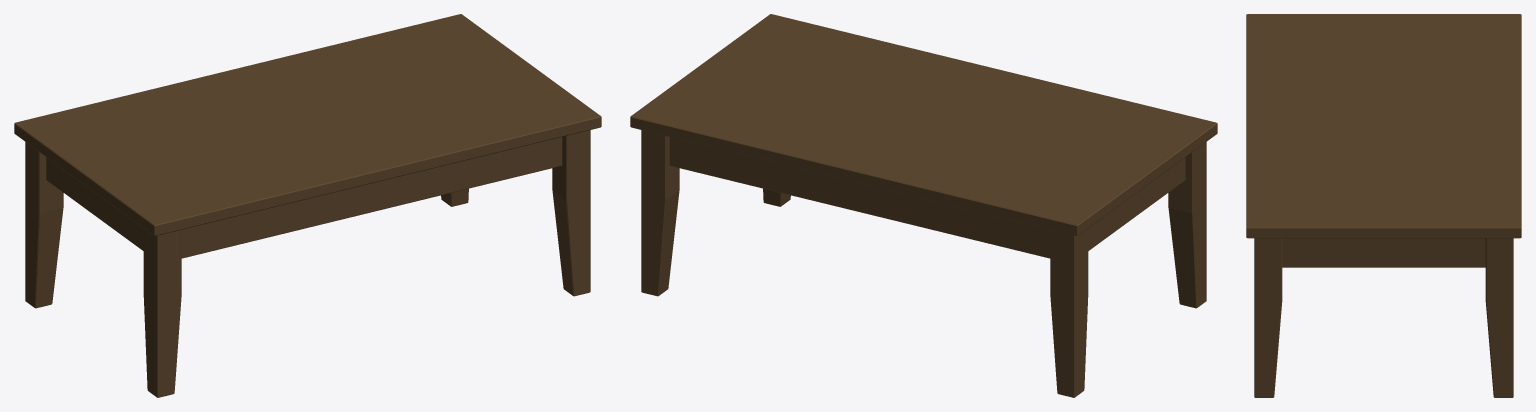
The model's file is Table1.glb.
The picture shows the model from 3 angles, left to right: view 1: azimuth 30°, elevation 25°; view 2: azimuth 150°, elevation 25°; view 3: azimuth 270°, elevation 25°; orthographic projection. The views are drawn at different scales.
Parts seen in each view (by area): view 1: table_low; view 2: table_low; view 3: table_low.
Boxes of the visible parts, <box> form: table_low: <box>14,14,601,397</box>; table_low: <box>630,14,1217,397</box>; table_low: <box>1246,14,1521,397</box>.
Bounding box in the file's own units: 1.27 × 0.48 × 0.6888.
